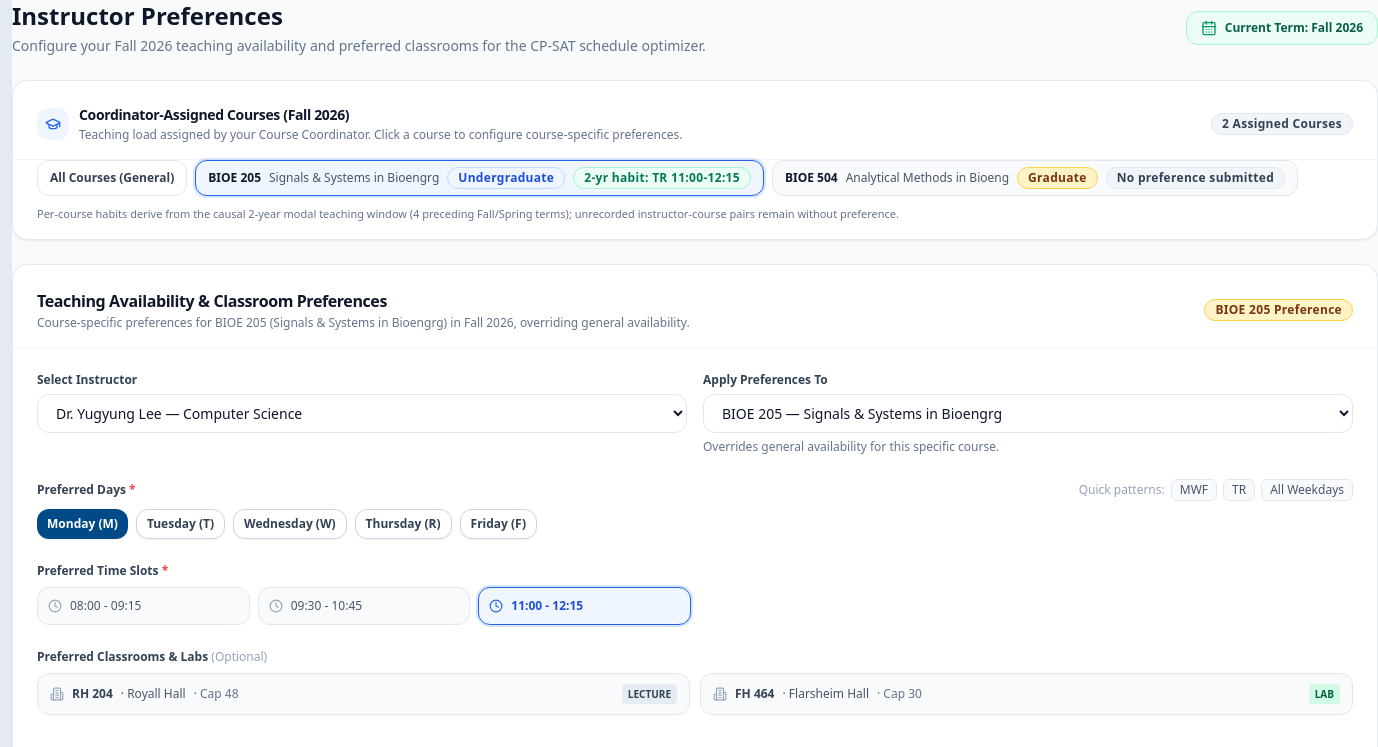
PreferencesPage Component › selects an assigned course via pill or dropdown, hydrates 2-year habit, filters incompatible slots, saves per-course override, and updates habit badge
The width and height of the screenshot is (1378, 747).
Earlier steps of the test are not shown.
Click the button with test id "day-btn-Wednesday (W)": (290,524) [233,508,346,538]
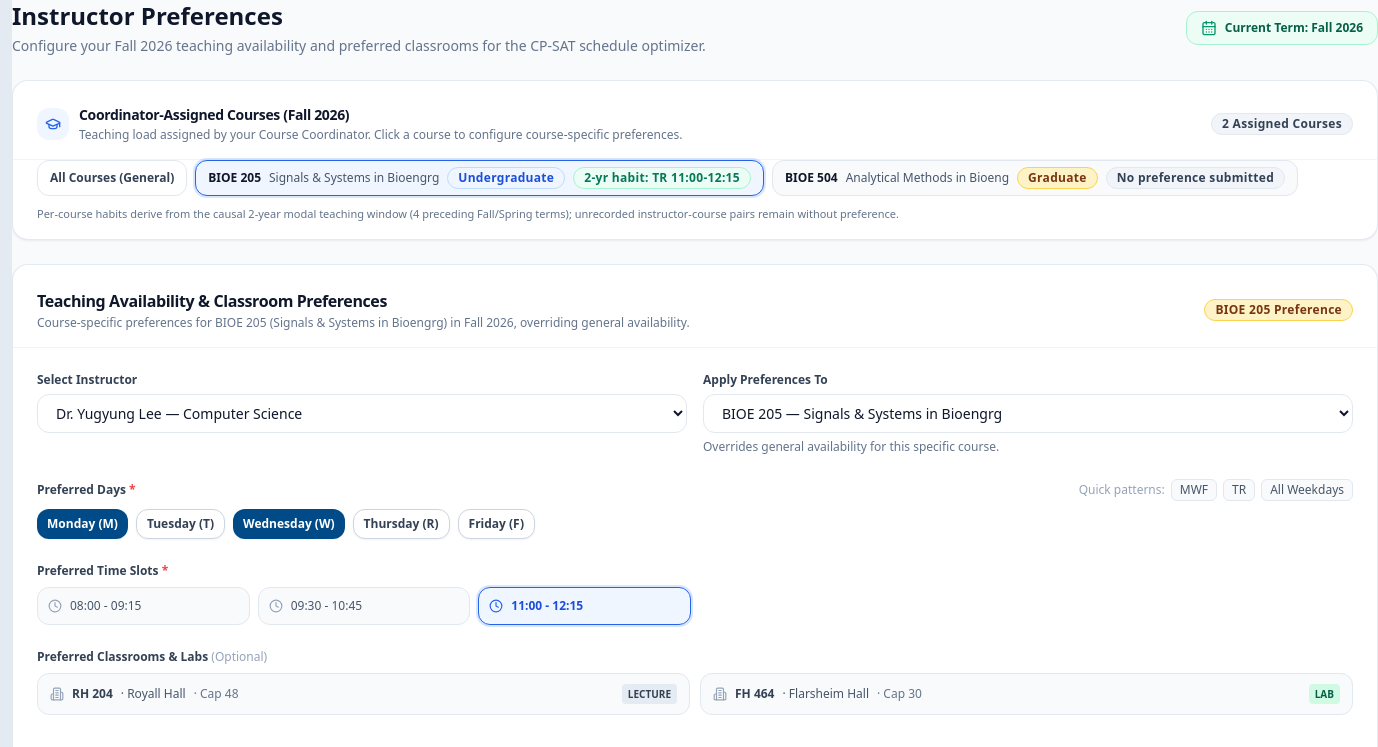
Click the button with test id "slot-11:00-12:15": (585,606) [478,586,691,624]
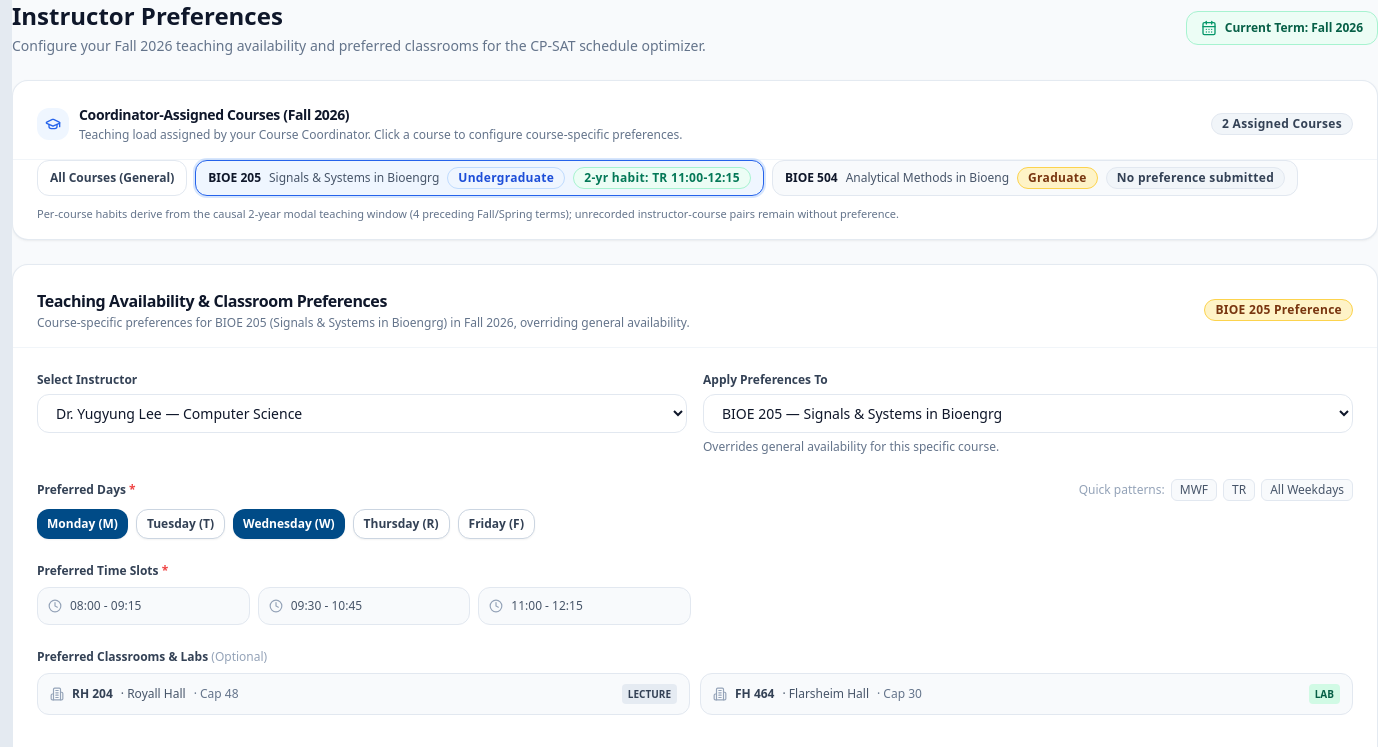
Click the button with test id "slot-09:30-10:45": (364,606) [258,586,470,624]
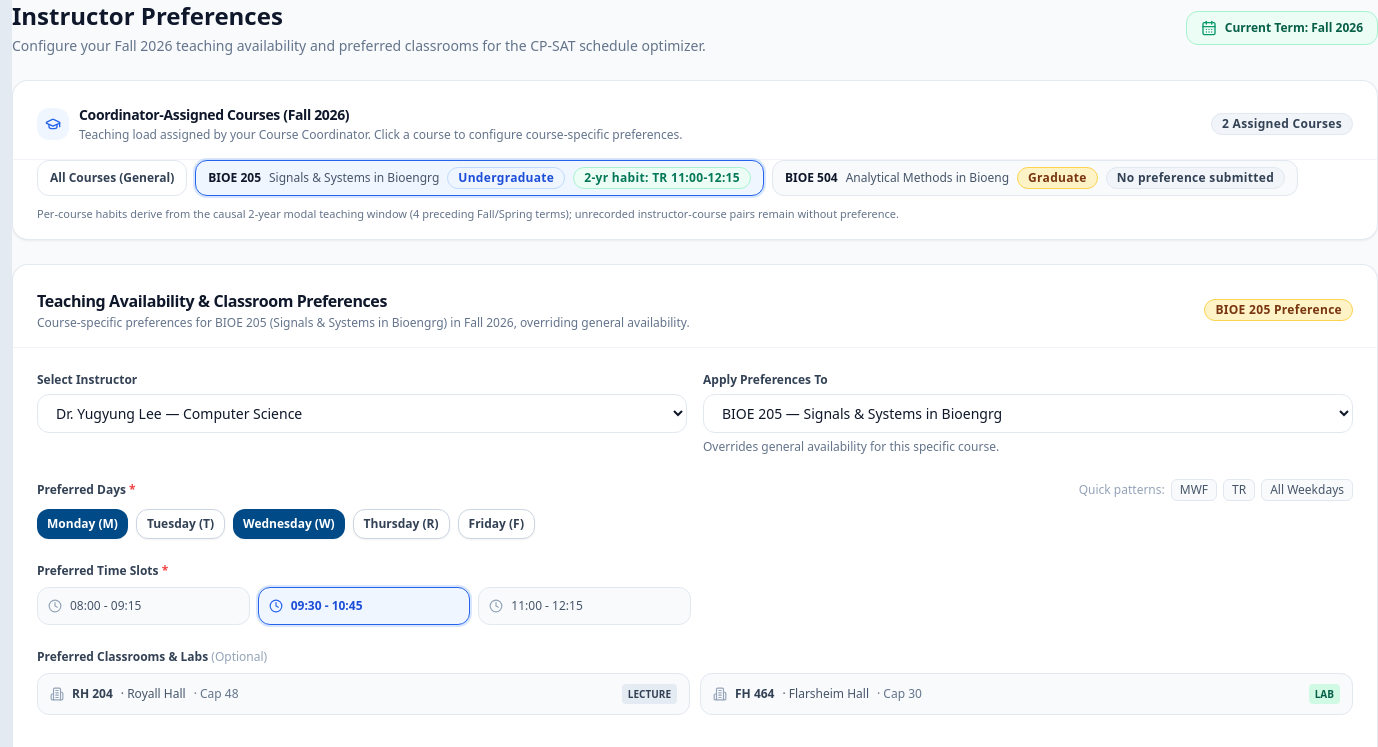
Click the button with test id "room-chip-RH 204": (92,693) [37,672,690,714]
(page scrolled)
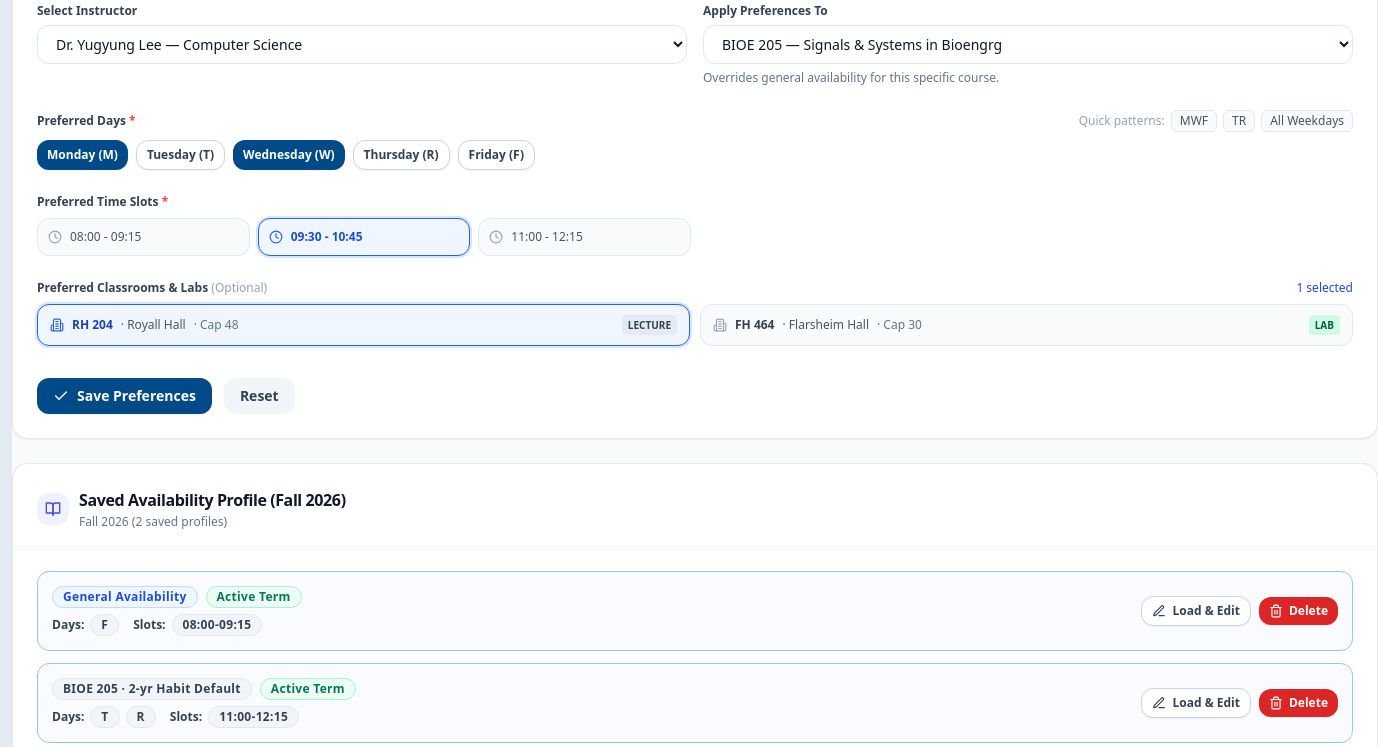
Click the button with test id "save-preferences-button": (124,396) [37,378,212,414]
(page scrolled)
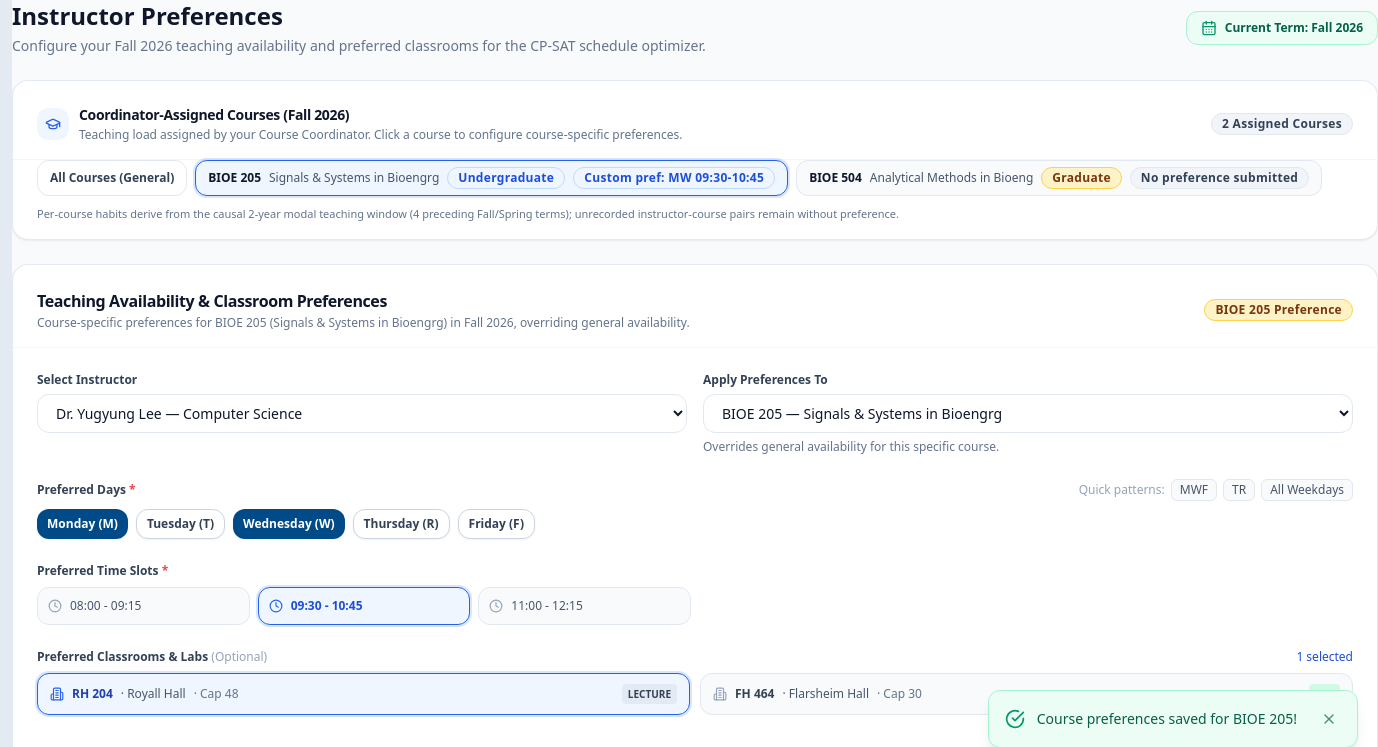
Expected: the text "Course preferences saved for BIOE 205!" is shown, [1037,709,1305,729]
Expected: the text with test id "course-habit-badge-3" reads "Custom pref: MW 09:30-10:45", [573,167,775,189]
Click the button with test id "select-course-scope-general": (112,178) [37,160,187,196]
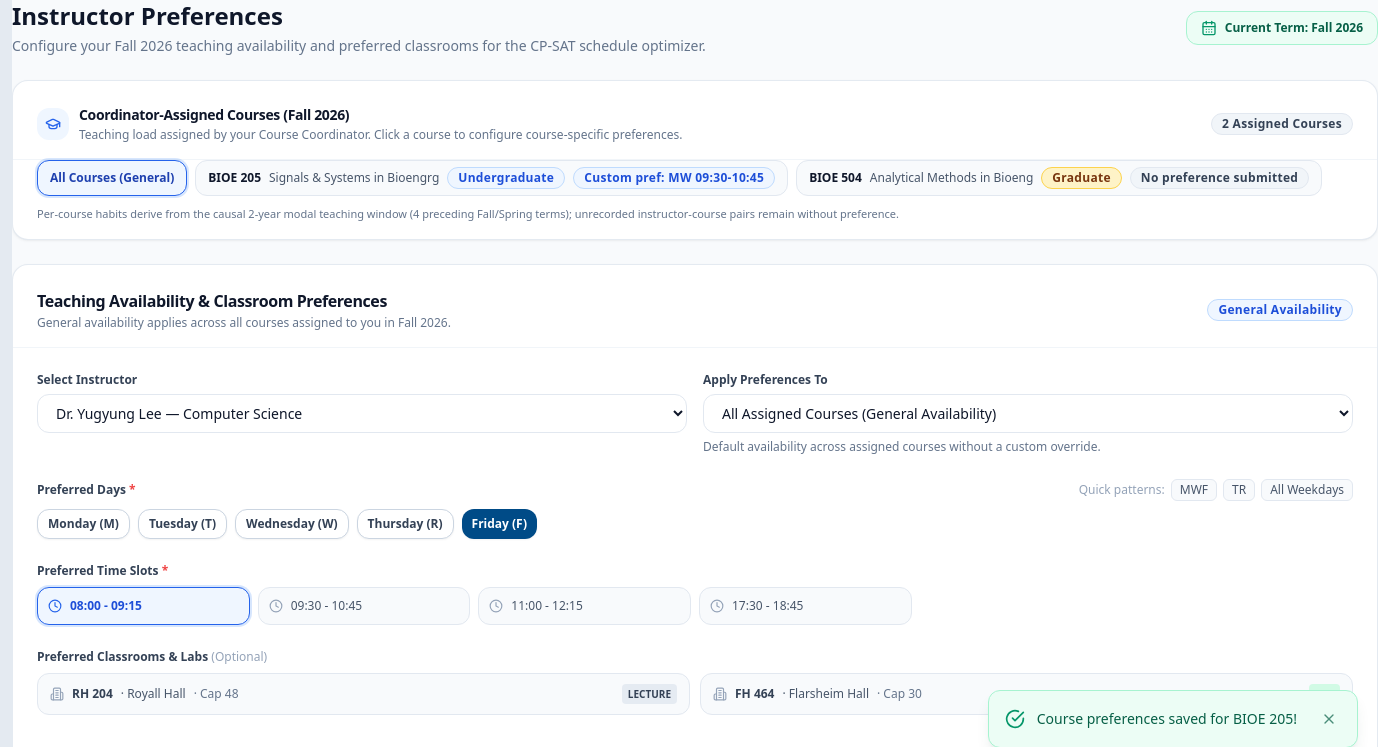
Expected: the button with test id "day-btn-Friday (F)" is pressed, [462,508,537,538]
